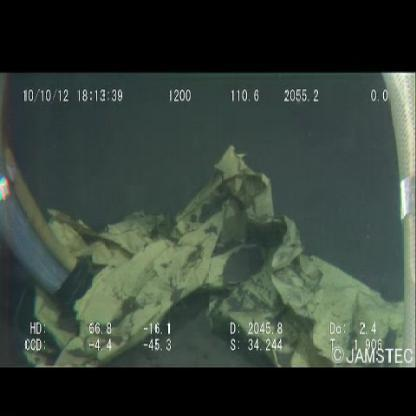Rác: (21, 146, 416, 372)
